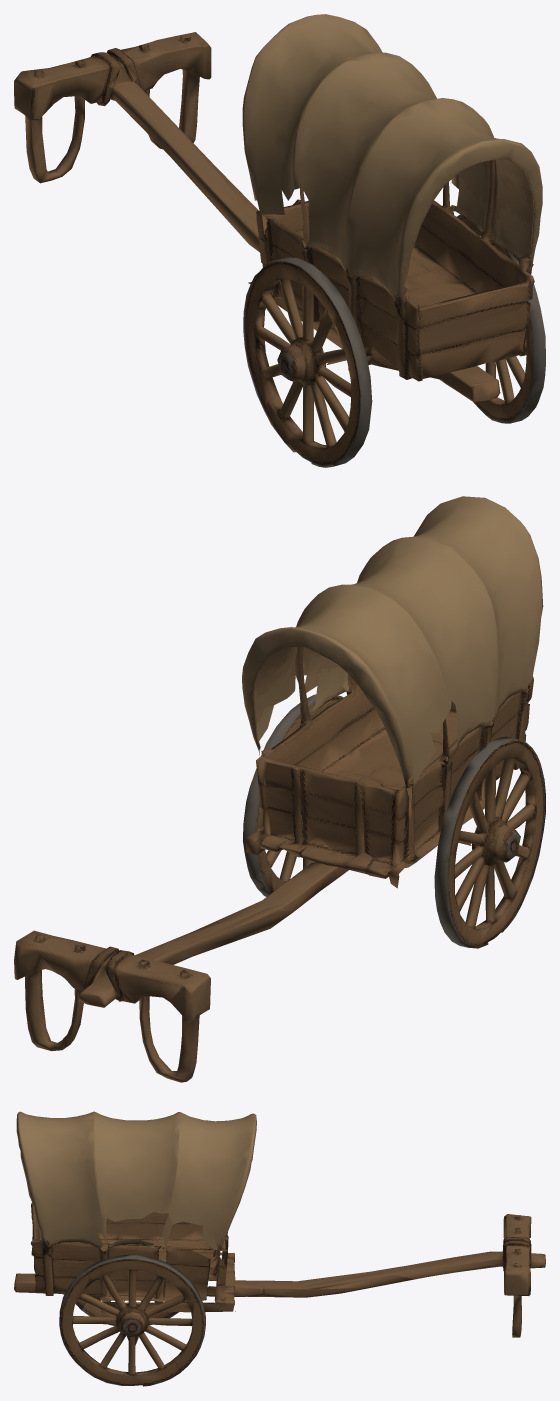
Rendered from carreta_ruedas.glb.
3 renders of one model, top to bottom at view 1: azimuth 30°, elevation 25°; view 2: azimuth 150°, elevation 25°; view 3: azimuth 270°, elevation 25°, orthographic. The views are drawn at different scales.
Parts seen in each view (by area): view 1: carreta, rueda_derecha, rueda_izquierda; view 2: carreta, rueda_derecha, rueda_izquierda; view 3: carreta, rueda_izquierda, rueda_derecha.
Part boxes in pixels (x1=…): carreta: x1=14, y1=14, x2=542, y2=466; rueda_derecha: x1=243, y1=257, x2=372, y2=467; rueda_izquierda: x1=456, y1=214, x2=545, y2=423; carreta: x1=14, y1=496, x2=543, y2=1082; rueda_derecha: x1=434, y1=736, x2=545, y2=948; rueda_izquierda: x1=243, y1=694, x2=343, y2=896; carreta: x1=14, y1=1111, x2=545, y2=1337; rueda_izquierda: x1=59, y1=1214, x2=234, y2=1386; rueda_derecha: x1=76, y1=1299, x2=187, y2=1325.
Size of the model in its own units: 0.6795 by 1 by 2.01.
Materials: 1 (1 with a texture image).
